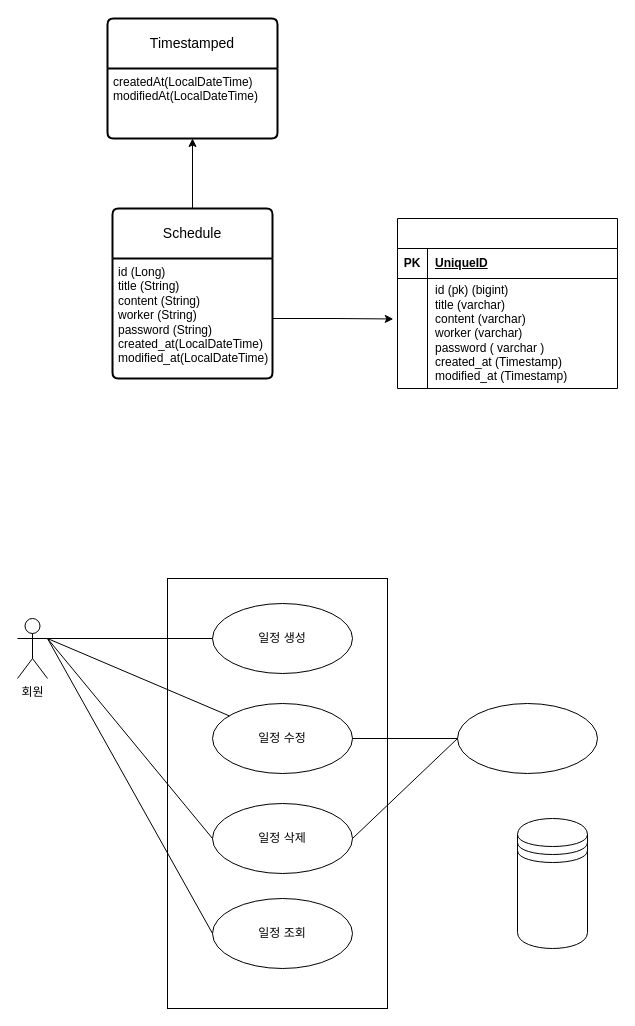
The diagram is 635 pixels wide and 1026 high, and some of its shapes have lost their labels. Here are the shapes that lost their labels. From the top down, the box of each, then its label:
(396, 218, 618, 388): Table
(456, 702, 598, 774): 사용자 인증
(516, 818, 588, 948): Database
